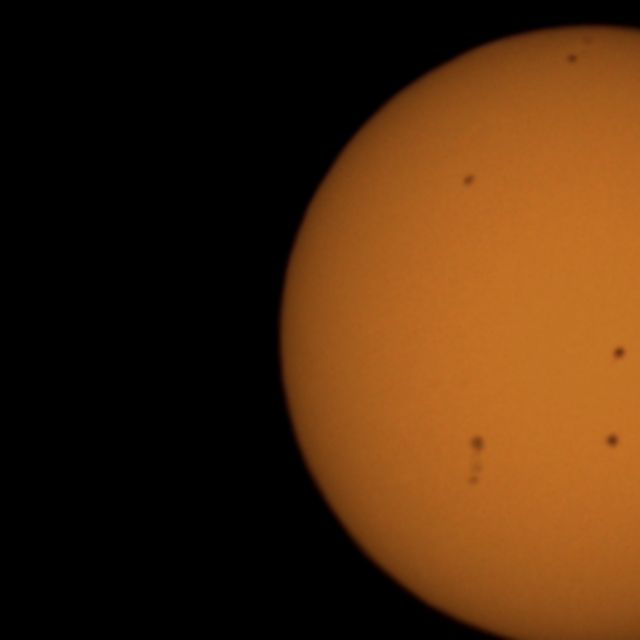sunspot: (464, 459, 485, 489), (466, 432, 488, 457), (602, 430, 622, 452), (610, 343, 628, 364), (460, 172, 477, 190), (564, 52, 580, 67)
